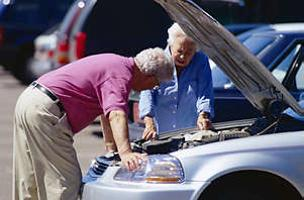person: (11, 48, 175, 200)
